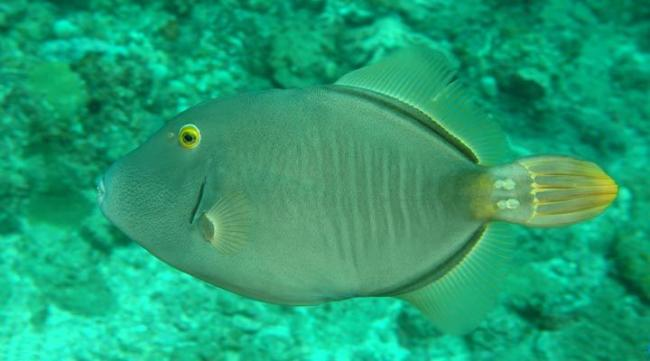fish: (97, 47, 617, 326)
